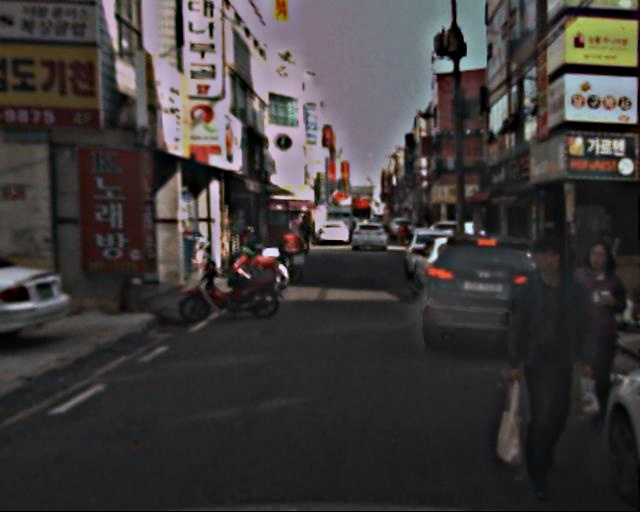person: (500, 230, 597, 501), (572, 237, 628, 445), (297, 215, 314, 256), (395, 221, 411, 246)
